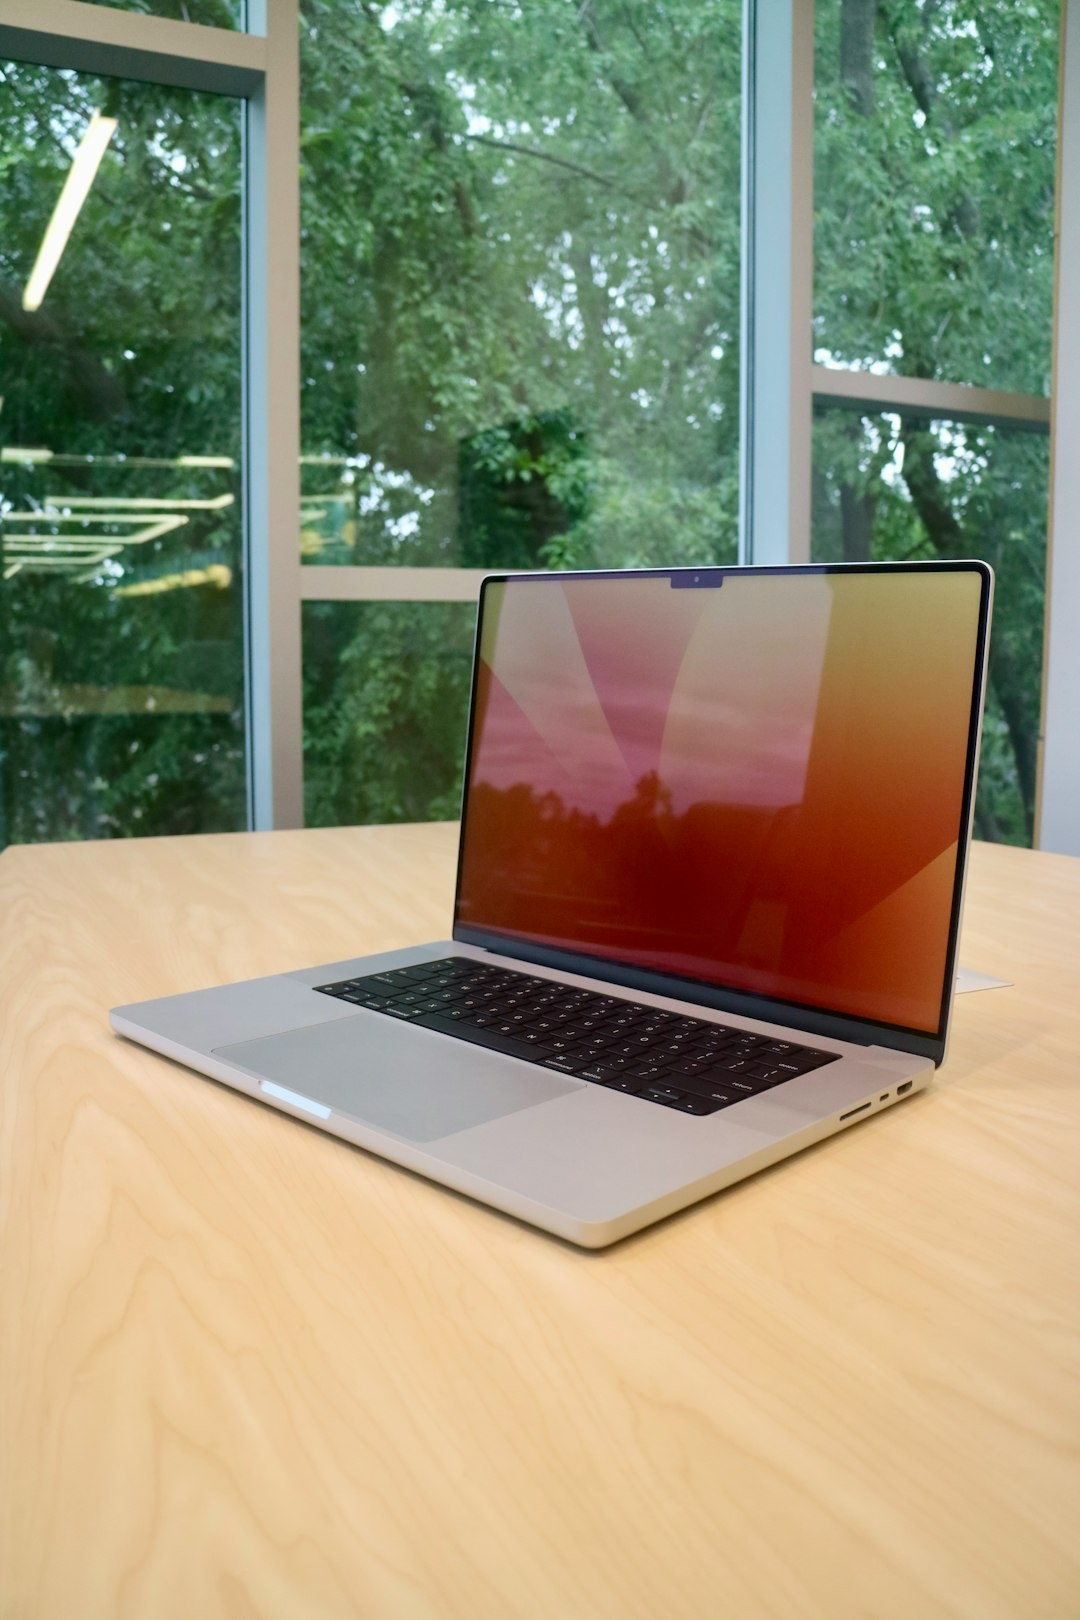laptop: (70, 510, 1033, 1297)
